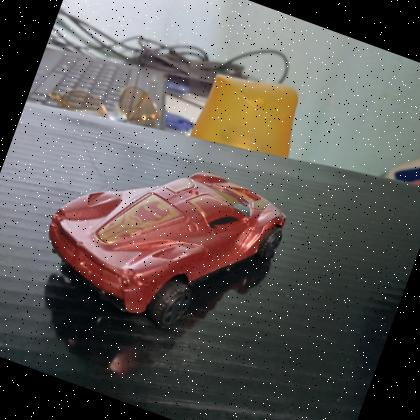Car: (22, 120, 300, 360)
